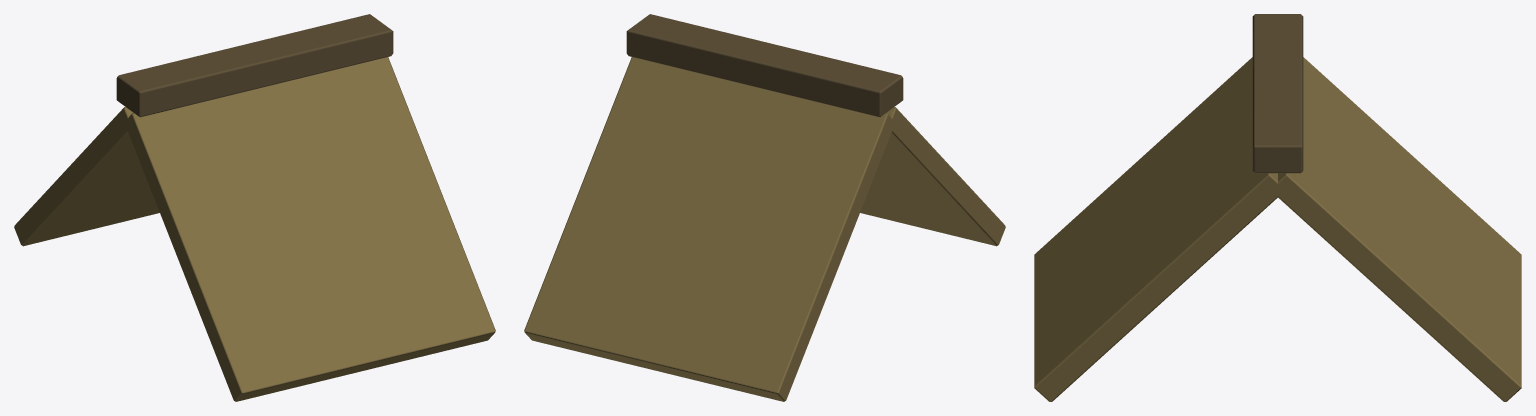
File: village-roof-ridge.5f83dac2.glb
3 views of the same model, side by side, from view 1: azimuth 30°, elevation 25°; view 2: azimuth 150°, elevation 25°; view 3: azimuth 270°, elevation 25° (orthographic). The views are drawn at different scales.
Parts seen in each view (by area): view 1: body; view 2: body; view 3: body.
Boxes of the visible parts, x1,y1,x2,y2 form: body: (14, 14, 495, 401); body: (524, 14, 1005, 401); body: (1034, 14, 1521, 401).
Bounding box in the file's own units: 1 × 0.9007 × 1.55.
